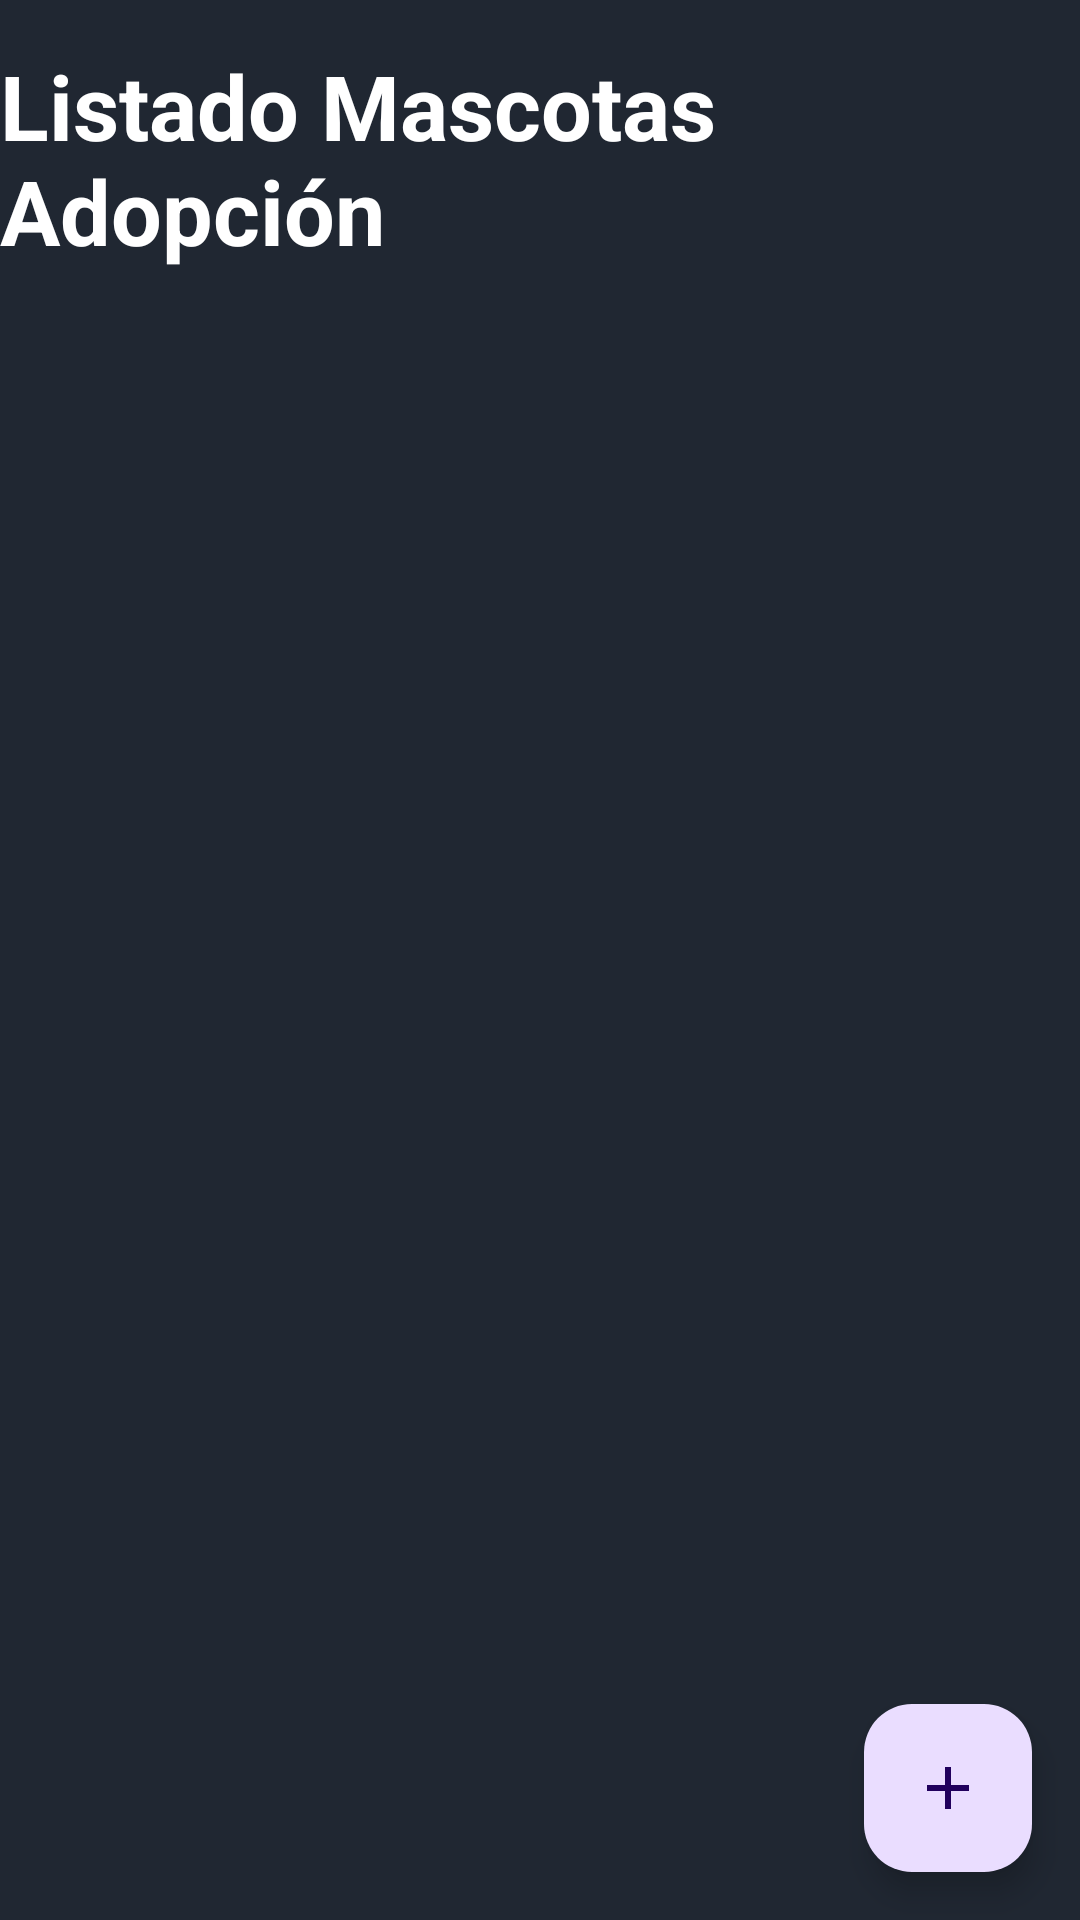

Icon bounding boxes for this 1080 × 1920 phone screenshot, format (x1=x1, y1=y1, x2=x2, y2=y2):
add pet: (x1=864, y1=1704, x2=1032, y2=1872)
